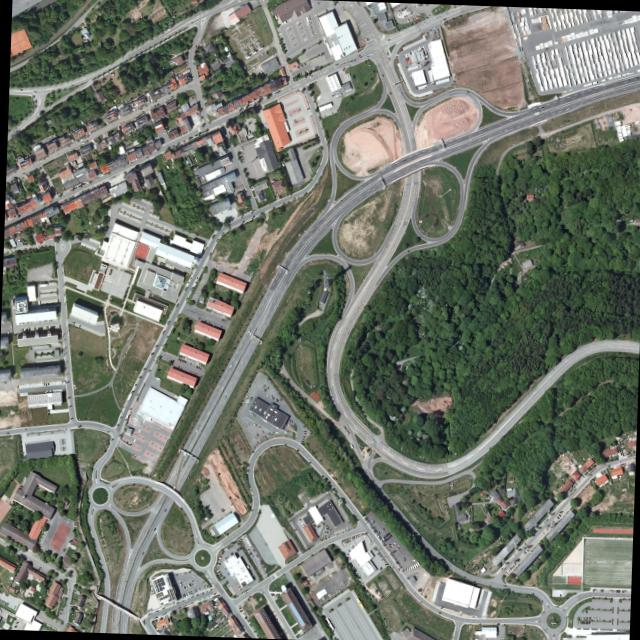small-vehicle: (413, 15, 417, 19), (415, 562, 419, 566), (215, 563, 219, 566), (216, 572, 220, 575), (238, 546, 241, 550), (235, 548, 238, 552), (216, 570, 219, 574), (218, 325, 221, 329), (206, 321, 209, 325), (178, 358, 181, 362), (218, 574, 222, 577), (186, 370, 189, 374), (188, 371, 191, 375), (140, 551, 143, 555), (152, 527, 155, 531), (220, 509, 224, 512), (224, 556, 228, 559), (249, 624, 252, 628), (292, 528, 296, 531), (299, 521, 303, 524), (241, 613, 245, 616), (237, 606, 241, 609), (236, 585, 240, 588), (251, 548, 254, 552), (262, 568, 266, 571), (263, 572, 267, 575), (397, 92, 401, 95), (333, 63, 337, 66), (341, 67, 344, 71), (305, 69, 308, 73), (296, 64, 299, 68), (292, 119, 295, 123), (247, 129, 250, 133), (193, 44, 196, 48), (194, 112, 197, 116), (78, 138, 82, 141), (144, 156, 148, 159), (194, 428, 197, 432), (33, 116, 37, 119), (159, 31, 163, 34), (193, 134, 197, 137), (176, 142, 180, 145), (169, 95, 173, 98), (163, 98, 167, 101), (149, 101, 153, 104), (139, 111, 143, 114), (134, 113, 138, 116), (69, 84, 73, 87), (503, 572, 507, 575), (378, 598, 381, 602), (557, 513, 560, 517), (352, 569, 356, 572), (356, 576, 360, 579), (376, 553, 380, 556), (379, 558, 383, 561), (602, 469, 605, 473), (192, 574, 195, 578), (190, 573, 193, 577), (351, 542, 355, 545), (371, 520, 374, 524), (370, 527, 373, 531), (374, 531, 377, 535), (258, 426, 261, 430), (282, 430, 286, 433), (396, 562, 399, 566), (410, 565, 413, 569), (412, 564, 415, 568), (414, 563, 417, 567), (457, 610, 461, 613), (390, 554, 393, 558), (385, 532, 388, 536), (385, 536, 389, 539), (384, 537, 388, 540), (391, 542, 395, 545), (386, 549, 389, 553), (395, 546, 399, 549), (216, 562, 219, 565), (216, 560, 219, 563), (219, 552, 222, 555), (225, 546, 228, 549), (227, 545, 230, 548), (228, 544, 231, 547), (233, 540, 236, 543), (235, 542, 238, 545), (233, 550, 236, 553), (230, 552, 233, 555), (218, 573, 221, 576), (194, 365, 197, 368), (181, 359, 184, 362), (219, 508, 222, 511), (242, 615, 245, 618), (246, 619, 249, 622), (247, 621, 250, 624), (255, 634, 258, 637), (287, 519, 290, 522), (288, 521, 291, 524), (289, 523, 292, 526), (290, 524, 293, 527), (291, 526, 294, 529), (298, 519, 301, 522), (231, 576, 234, 579), (300, 523, 303, 526), (301, 524, 304, 527), (312, 524, 315, 527), (324, 532, 327, 535), (342, 528, 345, 531), (237, 587, 240, 590), (243, 591, 246, 594), (250, 574, 253, 577), (250, 575, 253, 578), (245, 548, 248, 551), (246, 550, 249, 553), (248, 552, 251, 555), (249, 554, 252, 557), (250, 555, 253, 558), (251, 558, 254, 561), (252, 560, 255, 563), (253, 562, 256, 565), (244, 538, 247, 541), (264, 574, 267, 577), (245, 598, 248, 601), (356, 54, 359, 57), (341, 62, 344, 65), (335, 109, 338, 112), (302, 71, 305, 74), (299, 63, 302, 66), (298, 73, 301, 76), (395, 5, 398, 8), (412, 17, 415, 20), (539, 106, 542, 109), (465, 90, 468, 93), (420, 47, 423, 50), (416, 15, 419, 18), (406, 19, 409, 22), (404, 14, 407, 17), (402, 15, 405, 18), (398, 9, 401, 12), (22, 248, 25, 251), (66, 144, 69, 147), (68, 148, 71, 151), (84, 139, 87, 142), (41, 157, 44, 160), (21, 172, 24, 175), (188, 21, 191, 24), (38, 241, 41, 244), (8, 250, 11, 253), (130, 454, 133, 457), (181, 140, 184, 143), (167, 146, 170, 149), (162, 131, 165, 134), (175, 92, 178, 95), (166, 92, 169, 95), (148, 106, 151, 109), (138, 107, 141, 110), (127, 113, 130, 116), (117, 122, 120, 125), (520, 552, 523, 555), (488, 567, 491, 570), (499, 567, 502, 570), (506, 569, 509, 572), (508, 567, 511, 570), (502, 567, 505, 570), (511, 554, 514, 557), (510, 565, 513, 568), (512, 562, 515, 565), (521, 543, 524, 546), (522, 551, 525, 554), (524, 549, 527, 552), (540, 532, 543, 535), (542, 521, 545, 524), (544, 518, 547, 521), (549, 525, 552, 528), (544, 527, 547, 530), (555, 516, 558, 519), (377, 600, 380, 603), (367, 540, 370, 543), (357, 578, 360, 581), (349, 543, 352, 546), (352, 567, 355, 570), (354, 572, 357, 575), (359, 581, 362, 584), (378, 594, 381, 597), (372, 547, 375, 550), (373, 548, 376, 551), (375, 552, 378, 555), (379, 556, 382, 559), (381, 559, 384, 562), (378, 566, 381, 569), (377, 568, 380, 571), (377, 593, 380, 596), (551, 511, 554, 514), (178, 581, 181, 584), (186, 584, 189, 587), (71, 27, 74, 30), (202, 570, 205, 573), (205, 595, 208, 598), (200, 597, 203, 600), (362, 534, 365, 537), (365, 520, 368, 523), (367, 523, 370, 526), (364, 518, 367, 521), (378, 530, 381, 533), (377, 537, 380, 540), (380, 537, 383, 540), (382, 539, 385, 542), (252, 422, 255, 425), (262, 435, 265, 438), (265, 386, 268, 389), (269, 395, 272, 398), (273, 398, 276, 401), (379, 540, 382, 543), (401, 557, 404, 560), (402, 558, 405, 561), (397, 564, 400, 567), (398, 566, 401, 569), (399, 567, 402, 570), (399, 586, 402, 589), (398, 570, 401, 573), (346, 539, 349, 542), (343, 541, 346, 544), (341, 542, 344, 545), (393, 559, 396, 562), (392, 558, 395, 561), (391, 556, 394, 559), (388, 534, 391, 537), (387, 535, 390, 538), (383, 538, 386, 541), (383, 545, 386, 548), (384, 546, 387, 549), (385, 548, 388, 551), (386, 544, 389, 547), (389, 544, 392, 547), (388, 545, 391, 548), (388, 552, 391, 555), (389, 553, 392, 556), (232, 540, 234, 544), (220, 317, 222, 321), (177, 357, 179, 361), (205, 320, 207, 324), (200, 318, 202, 322), (198, 367, 200, 371), (176, 365, 178, 369), (178, 367, 180, 371), (192, 372, 194, 376), (163, 508, 165, 512), (252, 630, 256, 632), (315, 532, 317, 536), (325, 490, 327, 494), (243, 537, 247, 539), (245, 542, 249, 544), (246, 544, 250, 546), (211, 323, 213, 327), (222, 318, 224, 322), (376, 64, 378, 68), (365, 37, 367, 41), (344, 61, 348, 63), (302, 62, 304, 66), (385, 39, 389, 41), (295, 65, 297, 69), (287, 113, 289, 117), (247, 104, 251, 106), (388, 91, 390, 95), (441, 18, 445, 20), (397, 13, 399, 17), (80, 142, 84, 144), (44, 156, 48, 158), (31, 243, 35, 245), (35, 246, 39, 248), (54, 251, 56, 255), (200, 115, 202, 119), (170, 145, 174, 147), (337, 513, 339, 517), (343, 544, 345, 548), (197, 587, 199, 591), (177, 572, 179, 576), (178, 583, 182, 585), (182, 585, 184, 589), (189, 582, 191, 586), (617, 589, 619, 593), (594, 617, 596, 621), (362, 515, 364, 519), (369, 524, 371, 528), (376, 534, 378, 538), (380, 528, 382, 532), (377, 535, 379, 539), (259, 437, 261, 441), (249, 411, 251, 415), (252, 436, 254, 440), (255, 440, 257, 444), (409, 566, 411, 570), (407, 567, 409, 571), (355, 534, 357, 538), (226, 585, 228, 588), (217, 559, 220, 561), (217, 557, 220, 559), (220, 550, 222, 553), (221, 550, 224, 552), (239, 536, 242, 538), (241, 535, 244, 537), (237, 547, 239, 550), (234, 549, 236, 552), (232, 551, 234, 554), (229, 553, 231, 556), (203, 320, 205, 323), (199, 318, 201, 321), (196, 366, 198, 369), (183, 360, 185, 363), (180, 359, 182, 362), (194, 373, 196, 376), (22, 428, 25, 430), (5, 432, 8, 434), (13, 551, 16, 553), (228, 553, 230, 556), (232, 578, 235, 580), (297, 518, 300, 520), (248, 623, 251, 625), (324, 529, 327, 531), (323, 534, 326, 536), (321, 535, 324, 537), (237, 605, 240, 607), (248, 551, 250, 554), (255, 554, 257, 557), (256, 557, 258, 560), (245, 540, 248, 542), (263, 571, 266, 573), (330, 94, 333, 96), (381, 74, 383, 77), (358, 56, 361, 58), (352, 59, 355, 61), (348, 60, 351, 62), (298, 64, 300, 67), (223, 319, 225, 322), (634, 77, 637, 79), (625, 79, 628, 81), (497, 122, 500, 124), (415, 62, 418, 64), (408, 52, 410, 55), (416, 13, 419, 15), (410, 18, 413, 20), (406, 14, 409, 16), (405, 9, 407, 12), (406, 11, 409, 13), (403, 6, 405, 9), (401, 7, 403, 10), (400, 8, 402, 11), (397, 10, 399, 13), (399, 12, 401, 15), (191, 62, 193, 65), (75, 140, 78, 142), (38, 159, 41, 161), (62, 192, 65, 194), (42, 245, 45, 247), (4, 251, 7, 253), (44, 383, 46, 386), (46, 382, 48, 385), (248, 332, 250, 335), (82, 136, 85, 138), (85, 135, 88, 137), (163, 30, 166, 32), (155, 103, 158, 105), (152, 105, 155, 107), (153, 100, 156, 102), (143, 105, 146, 107), (120, 121, 123, 123), (32, 91, 35, 93), (228, 364, 230, 367), (377, 601, 379, 604), (502, 585, 505, 587), (510, 566, 512, 569), (516, 558, 519, 560), (551, 520, 553, 523), (550, 522, 552, 525), (380, 595, 382, 598), (346, 543, 348, 546), (350, 545, 353, 547), (351, 566, 353, 569), (354, 570, 356, 573), (356, 575, 359, 577), (378, 555, 381, 557), (382, 561, 385, 563), (383, 563, 386, 565), (606, 465, 609, 467), (188, 583, 190, 586), (200, 592, 203, 594), (177, 580, 180, 582), (179, 585, 182, 587), (184, 585, 186, 588), (617, 461, 620, 463), (186, 592, 188, 595), (184, 598, 187, 600), (179, 600, 182, 602), (182, 605, 185, 607), (172, 618, 175, 620), (153, 616, 156, 618), (154, 610, 157, 612), (159, 614, 162, 616), (174, 608, 177, 610), (26, 328, 28, 331), (206, 589, 209, 591), (189, 602, 192, 604), (196, 599, 199, 601), (619, 452, 621, 455), (582, 610, 584, 613), (620, 590, 622, 593), (592, 617, 594, 620), (589, 621, 591, 624), (580, 621, 582, 624), (582, 617, 584, 620), (583, 617, 585, 620), (247, 330, 249, 333), (302, 430, 305, 432), (302, 432, 305, 434), (300, 438, 303, 440), (299, 440, 302, 442), (294, 434, 296, 437), (370, 519, 372, 522), (367, 522, 369, 525), (288, 424, 290, 427), (375, 533, 377, 536), (377, 531, 379, 534), (381, 528, 383, 531), (379, 539, 381, 542), (289, 420, 291, 423), (351, 540, 354, 542), (250, 412, 252, 415), (252, 414, 254, 417), (254, 423, 256, 426), (257, 425, 259, 428), (255, 433, 257, 436), (260, 430, 262, 433), (254, 443, 256, 446), (257, 439, 259, 442), (267, 432, 269, 435), (274, 431, 277, 433), (265, 394, 267, 397), (271, 396, 273, 399), (275, 399, 277, 402), (288, 419, 290, 422), (286, 423, 288, 426), (381, 542, 383, 545), (382, 536, 384, 539), (401, 569, 403, 572), (411, 559, 414, 561), (383, 535, 385, 538), (437, 612, 440, 614), (345, 540, 347, 543), (353, 535, 355, 538), (384, 534, 386, 537), (387, 532, 389, 535), (387, 543, 390, 545), (390, 543, 393, 545), (387, 551, 389, 554), (396, 545, 399, 547), (394, 548, 397, 550), (393, 549, 396, 551), (392, 550, 395, 552), (235, 540, 239, 541), (325, 527, 327, 529), (325, 531, 327, 533), (241, 612, 243, 614), (223, 395, 225, 397), (252, 102, 254, 104), (409, 12, 411, 14), (112, 436, 113, 440), (519, 546, 521, 548), (526, 549, 528, 551), (345, 543, 346, 547), (183, 571, 184, 575), (616, 589, 617, 593), (597, 617, 598, 621), (405, 568, 407, 570), (350, 536, 351, 540), (391, 551, 393, 553), (218, 556, 221, 557), (238, 538, 241, 539), (191, 58, 192, 61), (39, 246, 42, 247), (42, 382, 43, 385), (18, 89, 21, 90), (348, 542, 349, 545), (184, 593, 185, 596), (585, 610, 586, 613), (601, 589, 602, 592), (608, 589, 609, 592), (610, 589, 611, 592), (611, 589, 612, 592), (588, 617, 589, 620), (588, 621, 589, 624), (586, 621, 587, 624), (584, 621, 585, 624), (582, 621, 583, 624), (579, 621, 580, 624), (579, 617, 580, 620), (581, 617, 582, 620), (290, 425, 291, 428), (301, 436, 304, 437), (288, 431, 289, 434), (261, 436, 262, 439), (286, 430, 287, 433), (266, 434, 267, 437), (404, 568, 405, 571), (352, 535, 353, 538)
